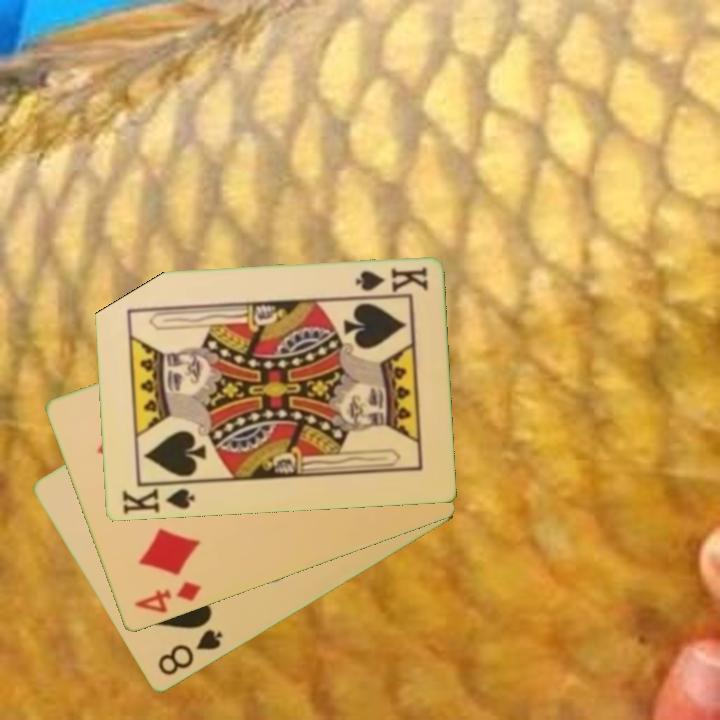4d: (130, 578, 204, 617)
8s: (154, 626, 226, 680)
Ks: (351, 264, 431, 296), (118, 485, 197, 517)
